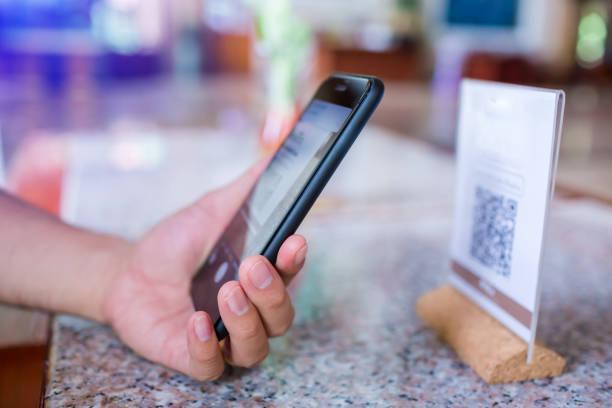Finder pattern: (505, 197, 520, 218)
